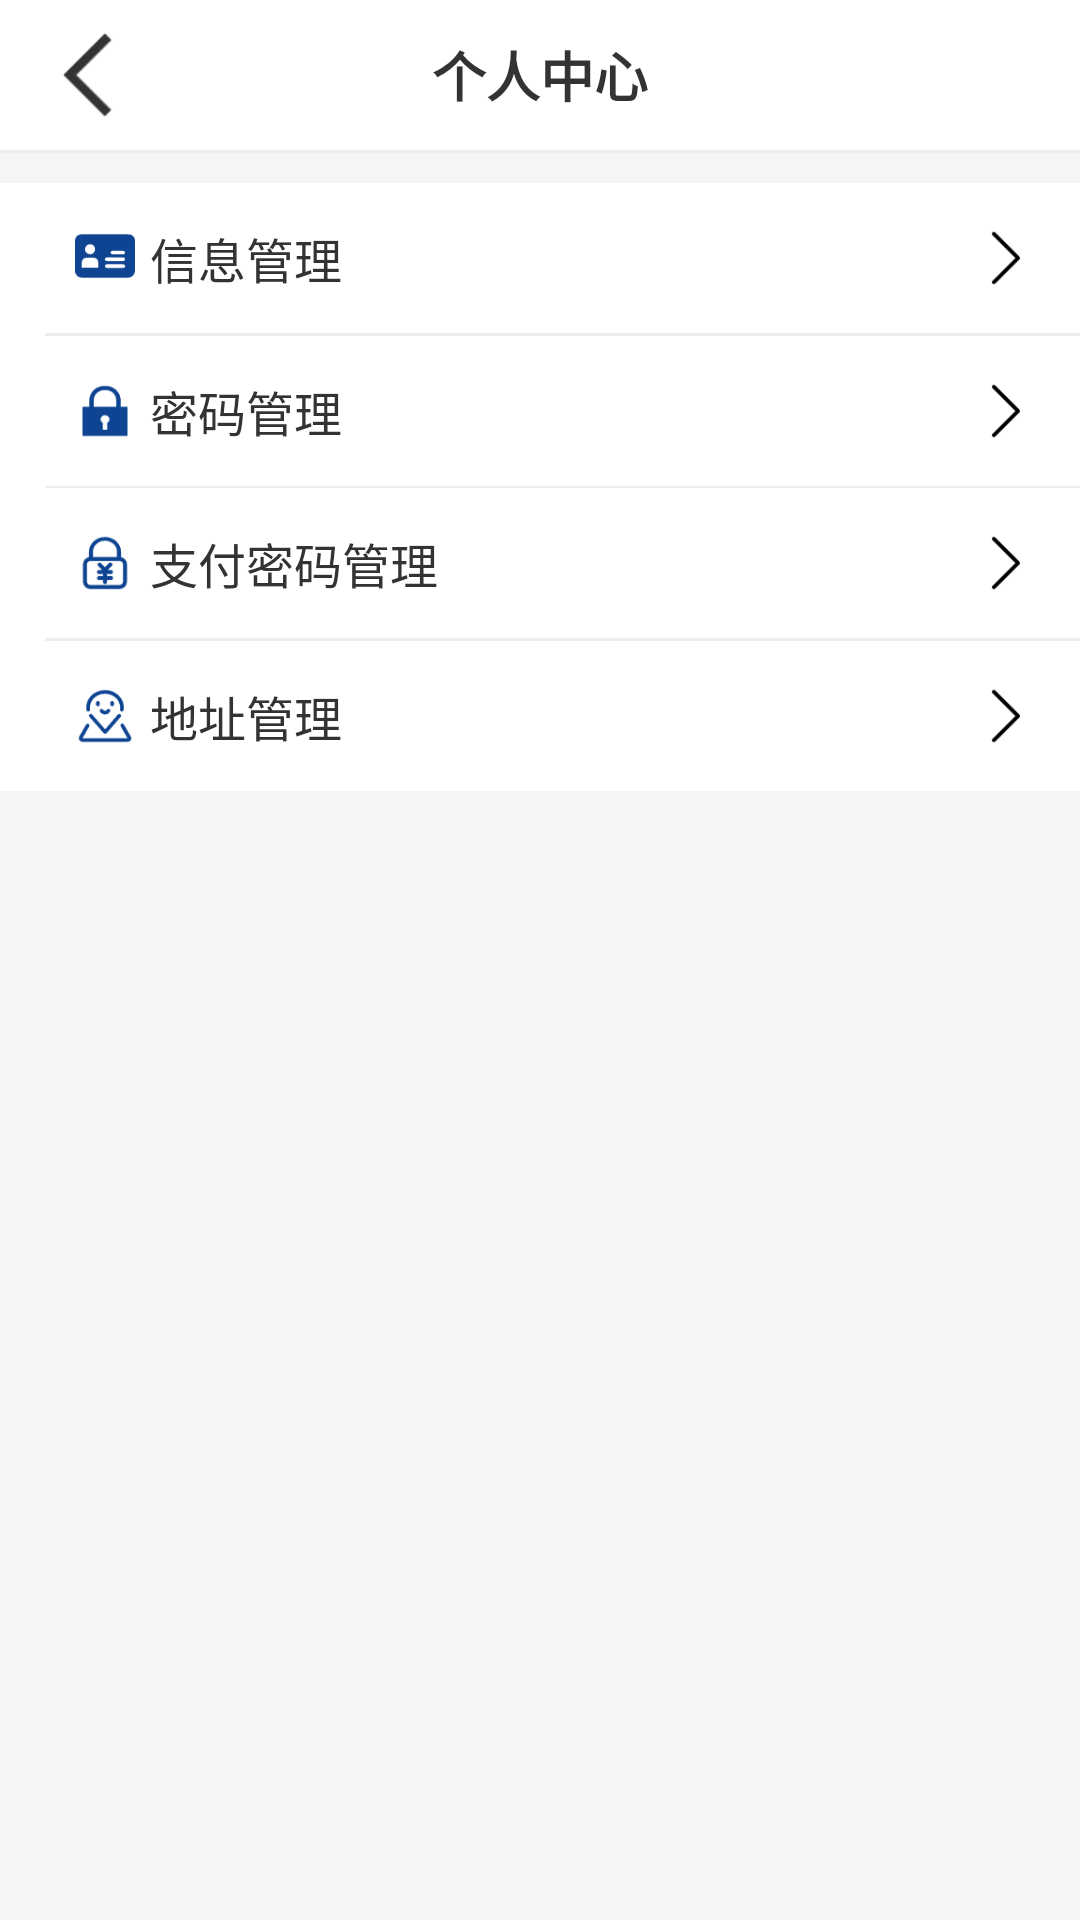

Icon bounding boxes for this 1080w x 1920h phone screenshot, format rect(x1, y1, x2, y2):
arrow left: rect(63, 33, 112, 116)
arrow right: rect(992, 231, 1020, 285), rect(992, 384, 1020, 438), rect(992, 536, 1020, 590), rect(992, 689, 1020, 743)
item user: rect(75, 234, 135, 278)
user address: rect(78, 689, 132, 743)
user pay: rect(82, 536, 128, 590)
user pwd: rect(82, 385, 128, 437)
